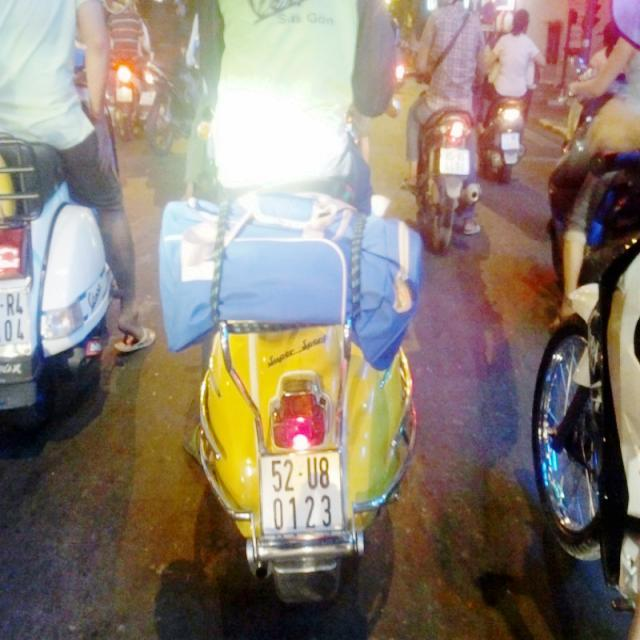license_plate: (262, 451, 346, 541)
